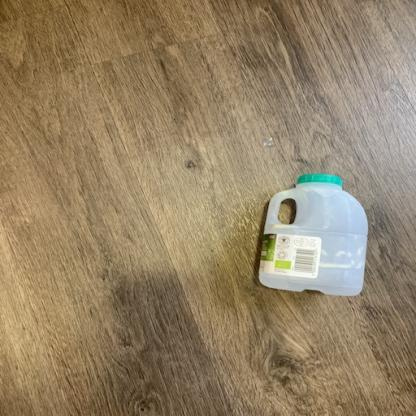trash: (255, 174, 373, 300)
